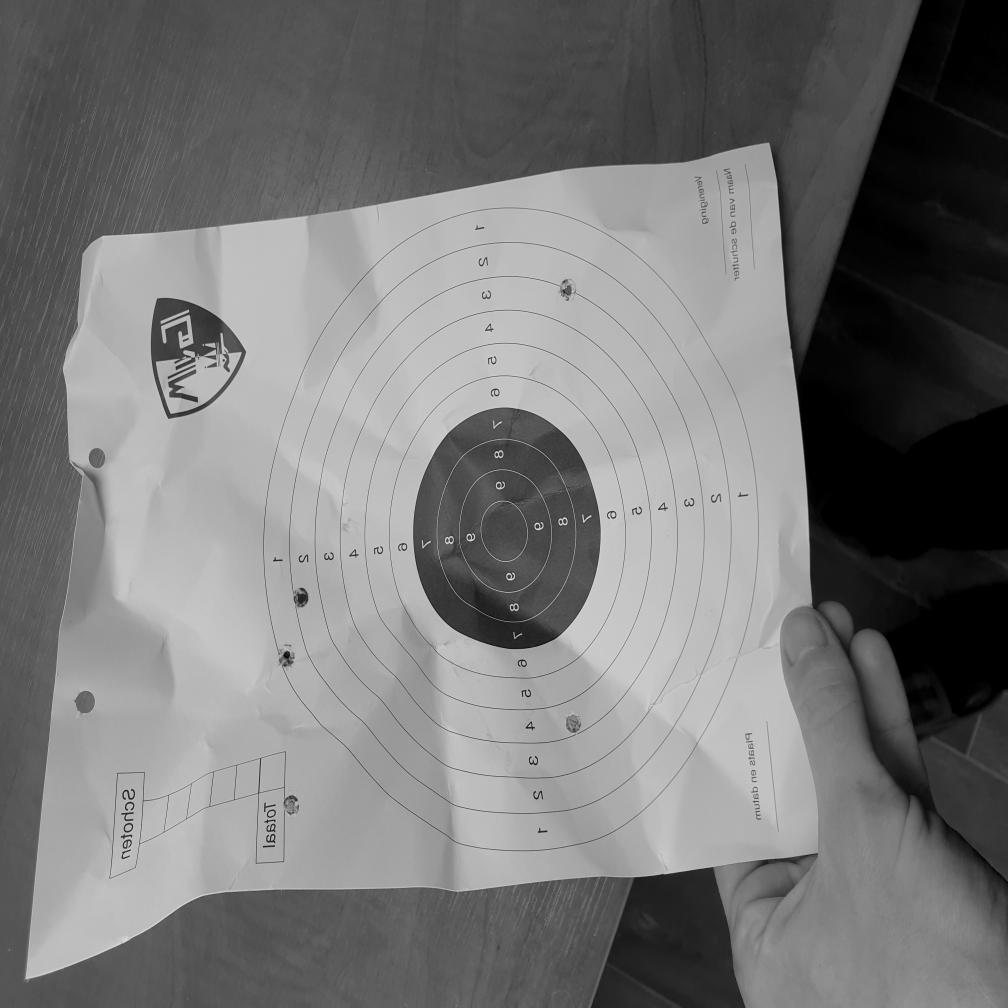0: (282, 790, 300, 818)
1: (276, 643, 295, 672)
2: (293, 587, 308, 609)
3: (558, 278, 577, 301)
4: (563, 710, 582, 737)
Target: (260, 206, 760, 857)
black_contour: (412, 408, 600, 649)
